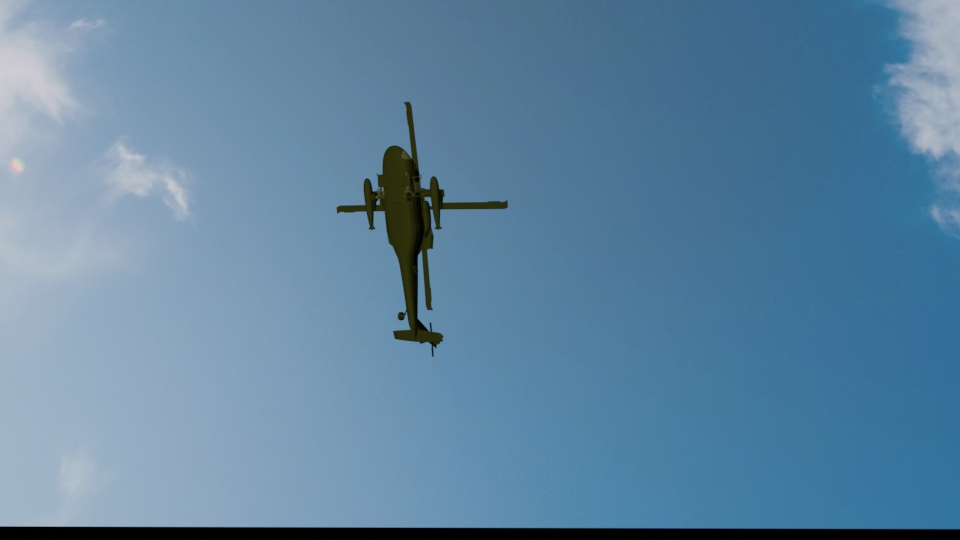heli: (336, 101, 508, 348)
